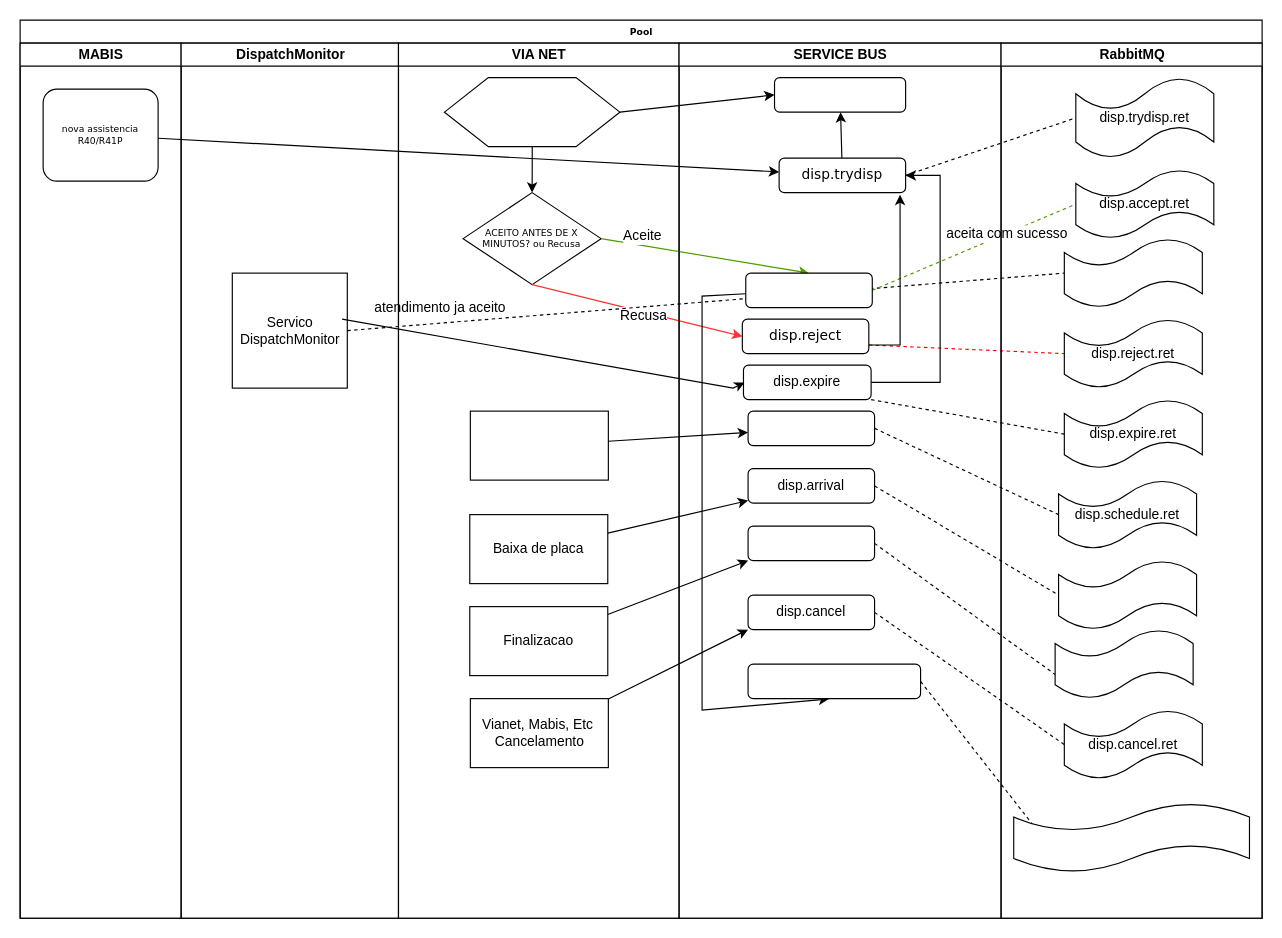
This 1282x938 diagram has some shape labels left out. Each missing label, with the centre of its shape:
Confirma Agendamento: point 538,445
disp.accept: point 808,290
disp.arrival.ret: point 1127,594
disp.finish: point 811,543
disp.finish.ret: point 1123,663
disp.newservice: point 839,94
disp.noaccept.ret: point 1132,272
disp.schedule: point 811,428
finance.serviceorder.new: point 834,681
finance.serviceorder.new.ret: point 1131,837
NOVA SOLICITACAO: point 531,111
